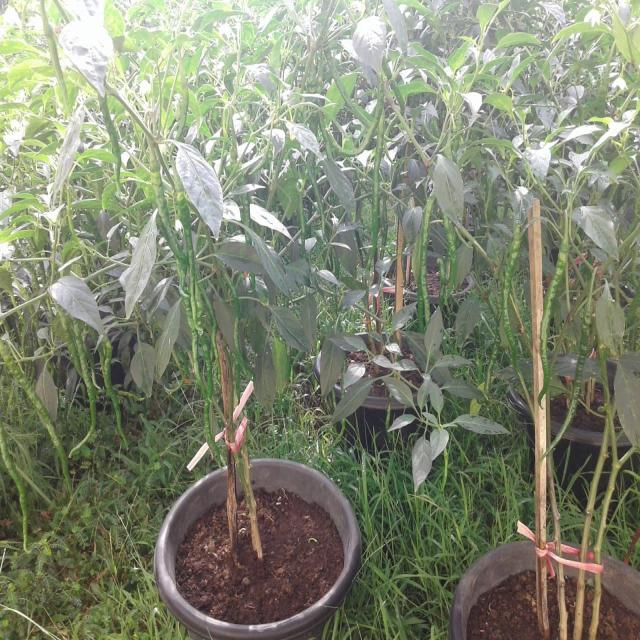sehat: (126, 224, 162, 320), (50, 269, 104, 328), (265, 303, 322, 350)
